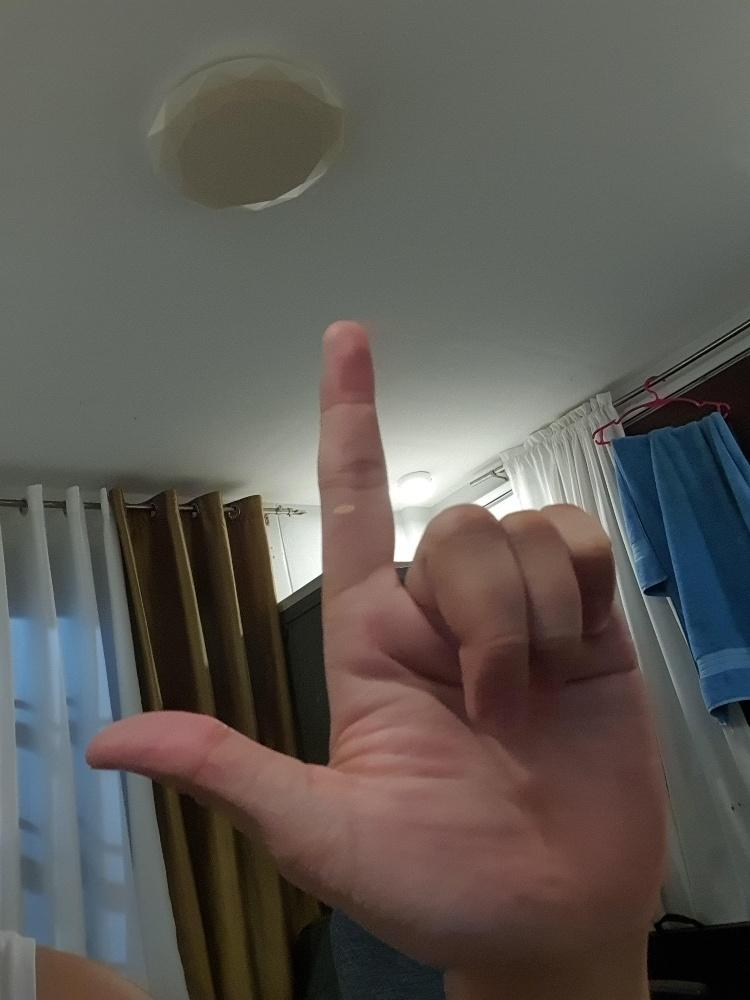l: (79, 308, 671, 974)
